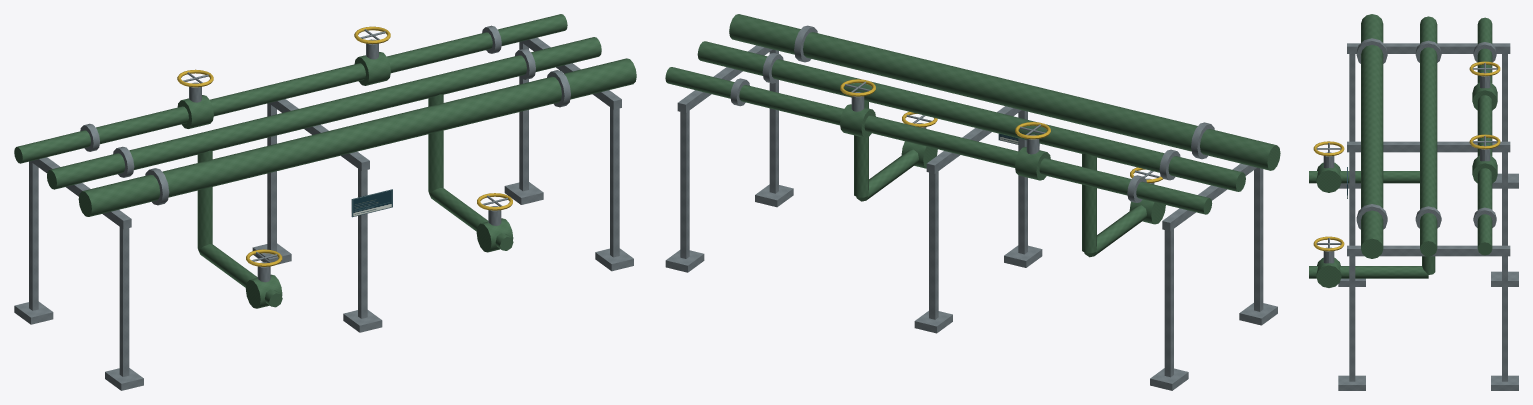
File: PZ_CFW_06_Valve_Manifold_8m.glb
The picture shows the model from 3 angles, left to right: view 1: azimuth 30°, elevation 25°; view 2: azimuth 150°, elevation 25°; view 3: azimuth 270°, elevation 25°; orthographic projection. The views are drawn at different scales.
Visible parts, largest first — view 1: VALVE_MANIFOLD_Longitudinal_ProcessLine_1, VALVE_MANIFOLD_Longitudinal_ProcessLine_2, VALVE_MANIFOLD_Longitudinal_ProcessLine_3, VALVE_MANIFOLD_PipeStanchion_0_0, VALVE_MANIFOLD_PipeStanchion_2_0, VALVE_MANIFOLD_PipeStanchion_0_1, VALVE_MANIFOLD_PipeStanchion_1_0, VALVE_MANIFOLD_BranchOut_0, VALVE_MANIFOLD_BranchOut_1, VALVE_MANIFOLD_BranchDrop_1, VALVE_MANIFOLD_BranchDrop_0, VALVE_MANIFOLD_PipeStanchion_1_1 (+14 smaller); view 2: VALVE_MANIFOLD_Longitudinal_ProcessLine_1, VALVE_MANIFOLD_Longitudinal_ProcessLine_2, VALVE_MANIFOLD_Longitudinal_ProcessLine_3, VALVE_MANIFOLD_PipeStanchion_0_1, VALVE_MANIFOLD_PipeStanchion_1_1, VALVE_MANIFOLD_PipeStanchion_2_1, VALVE_MANIFOLD_PipeStanchion_0_0, VALVE_MANIFOLD_BranchDrop_0, VALVE_MANIFOLD_BranchOut_1, VALVE_MANIFOLD_BranchOut_0, VALVE_MANIFOLD_PipeStanchion_2_0, VALVE_MANIFOLD_BranchDrop_1 (+12 smaller); view 3: VALVE_MANIFOLD_Longitudinal_ProcessLine_1, VALVE_MANIFOLD_Longitudinal_ProcessLine_2, VALVE_MANIFOLD_Longitudinal_ProcessLine_3, VALVE_MANIFOLD_PipeStanchionBeam_2, VALVE_MANIFOLD_PipeStanchionBeam_1, VALVE_MANIFOLD_BranchOut_1, VALVE_MANIFOLD_PipeStanchionBeam_0, VALVE_MANIFOLD_PipeStanchion_2_0, VALVE_MANIFOLD_BranchOut_0, VALVE_MANIFOLD_PipeStanchion_2_1, VALVE_MANIFOLD_PipeStanchion_1_0, VALVE_MANIFOLD_PipeStanchion_0_0 (+22 smaller).
Part boxes in pixels (bbox=[...]): VALVE_MANIFOLD_Longitudinal_ProcessLine_1: bbox=[78, 58, 636, 216]; VALVE_MANIFOLD_Longitudinal_ProcessLine_2: bbox=[47, 37, 601, 189]; VALVE_MANIFOLD_Longitudinal_ProcessLine_3: bbox=[14, 14, 567, 163]; VALVE_MANIFOLD_PipeStanchion_0_0: bbox=[119, 227, 129, 376]; VALVE_MANIFOLD_PipeStanchion_2_0: bbox=[610, 107, 619, 257]; VALVE_MANIFOLD_PipeStanchion_0_1: bbox=[29, 161, 38, 310]; VALVE_MANIFOLD_PipeStanchion_1_0: bbox=[358, 169, 367, 318]; VALVE_MANIFOLD_BranchOut_0: bbox=[198, 244, 282, 307]; VALVE_MANIFOLD_BranchOut_1: bbox=[429, 188, 513, 250]; VALVE_MANIFOLD_BranchDrop_1: bbox=[428, 94, 443, 193]; VALVE_MANIFOLD_BranchDrop_0: bbox=[197, 150, 212, 249]; VALVE_MANIFOLD_PipeStanchion_1_1: bbox=[267, 103, 276, 251]; VALVE_MANIFOLD_Longitudinal_ProcessLine_1: bbox=[729, 14, 1280, 170]; VALVE_MANIFOLD_Longitudinal_ProcessLine_2: bbox=[697, 41, 1245, 191]; VALVE_MANIFOLD_Longitudinal_ProcessLine_3: bbox=[665, 67, 1212, 214]; VALVE_MANIFOLD_PipeStanchion_0_1: bbox=[1164, 229, 1173, 377]; VALVE_MANIFOLD_PipeStanchion_1_1: bbox=[929, 171, 938, 319]; VALVE_MANIFOLD_PipeStanchion_2_1: bbox=[680, 110, 689, 258]; VALVE_MANIFOLD_PipeStanchion_0_0: bbox=[1254, 167, 1263, 311]; VALVE_MANIFOLD_BranchDrop_0: bbox=[1082, 153, 1096, 253]; VALVE_MANIFOLD_BranchOut_1: bbox=[856, 149, 918, 201]; VALVE_MANIFOLD_BranchOut_0: bbox=[1084, 205, 1146, 257]; VALVE_MANIFOLD_PipeStanchion_2_0: bbox=[769, 49, 778, 193]; VALVE_MANIFOLD_BranchDrop_1: bbox=[854, 101, 868, 197]; VALVE_MANIFOLD_Longitudinal_ProcessLine_1: bbox=[1361, 14, 1383, 258]; VALVE_MANIFOLD_Longitudinal_ProcessLine_2: bbox=[1420, 16, 1437, 256]; VALVE_MANIFOLD_Longitudinal_ProcessLine_3: bbox=[1477, 17, 1492, 255]; VALVE_MANIFOLD_PipeStanchionBeam_2: bbox=[1347, 245, 1510, 256]; VALVE_MANIFOLD_PipeStanchionBeam_1: bbox=[1347, 141, 1510, 152]; VALVE_MANIFOLD_BranchOut_1: bbox=[1309, 266, 1428, 278]; VALVE_MANIFOLD_PipeStanchionBeam_0: bbox=[1347, 43, 1510, 53]; VALVE_MANIFOLD_PipeStanchion_2_0: bbox=[1349, 256, 1355, 381]; VALVE_MANIFOLD_BranchOut_0: bbox=[1309, 171, 1419, 183]; VALVE_MANIFOLD_PipeStanchion_2_1: bbox=[1502, 256, 1507, 381]; VALVE_MANIFOLD_PipeStanchion_1_0: bbox=[1349, 152, 1355, 245]; VALVE_MANIFOLD_PipeStanchion_0_0: bbox=[1349, 54, 1355, 141].
Bounding box in the file's own units: 8 × 2.96 × 3.16.
4 materials, 4 textured.
